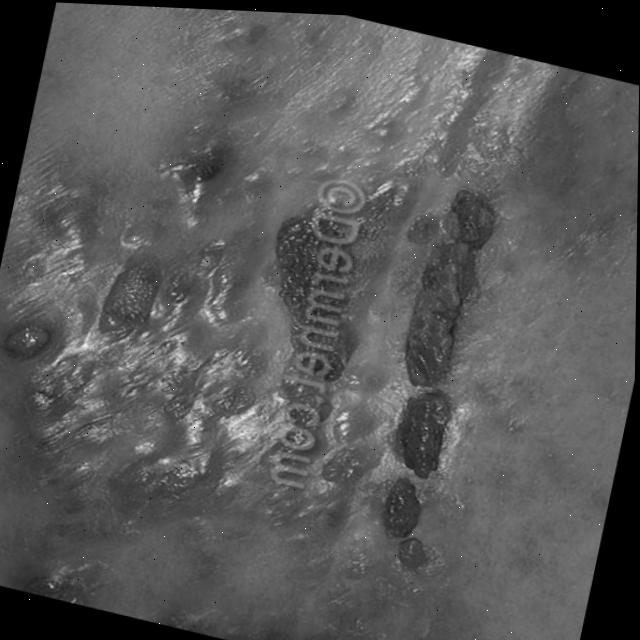Shingles: (0, 79, 522, 574)
